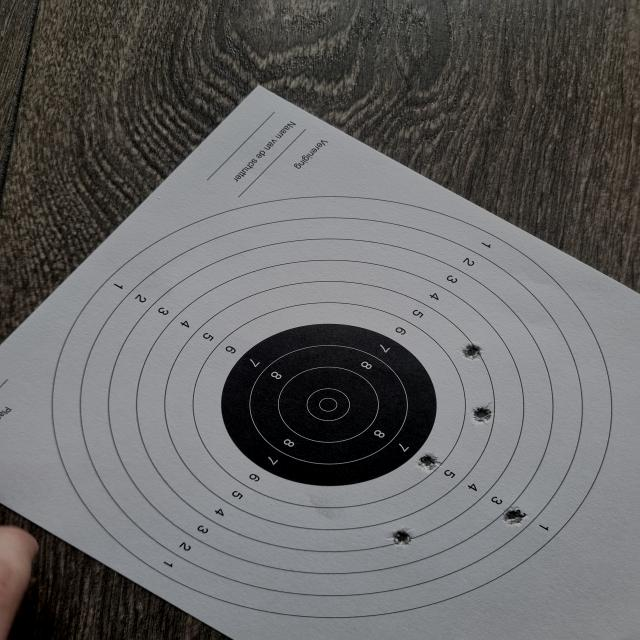2: (502, 510, 524, 524)
4: (392, 530, 411, 546)
5: (471, 402, 492, 422), (461, 343, 482, 360)
6: (417, 453, 441, 471)
Target: (49, 192, 614, 619)
black_contour: (222, 324, 438, 486)
